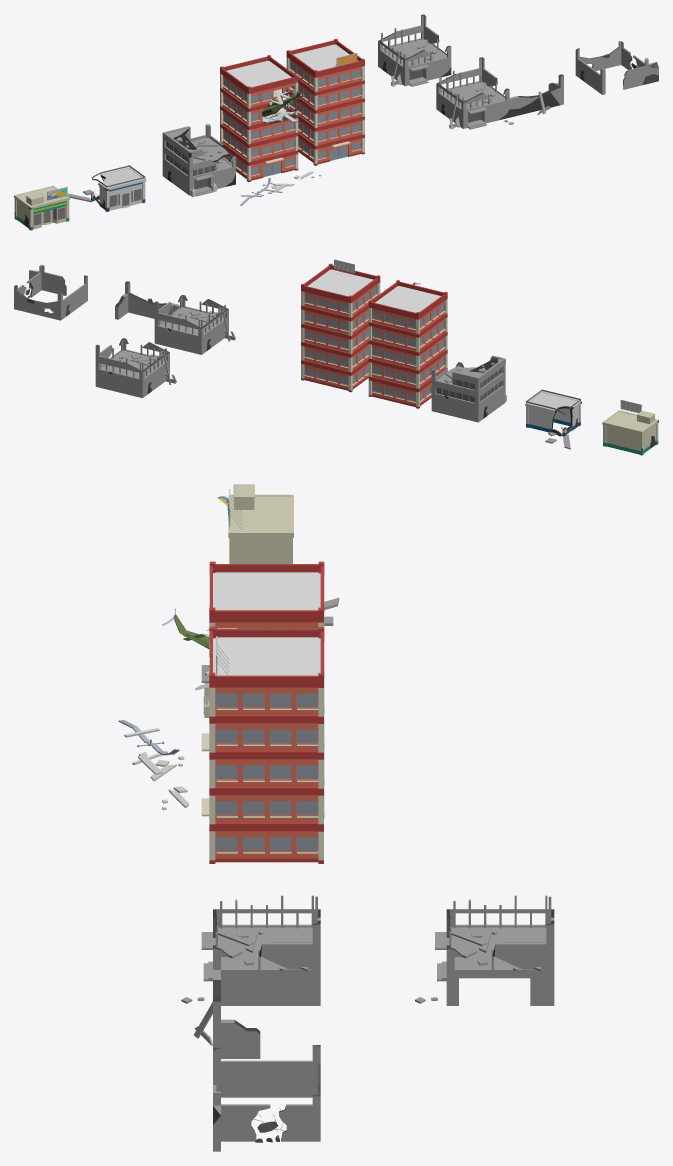
Rendered from Builings.FBX.
The picture shows the model from 3 angles, top to bottom: view 1: azimuth 30°, elevation 25°; view 2: azimuth 150°, elevation 25°; view 3: azimuth 270°, elevation 25°; orthographic projection. The views are drawn at different scales.
Parts seen in each view (by area): view 1: office_damaged_04, office_damaged_03, office_damaged_05, office_damaged_06_03, office_damaged_08, store_damaged_01, store_damaged_02, office_damaged_06_02, office_damaged_07_05, office_damaged_07_01, office_damaged_07_02; view 2: office_damaged_04, office_damaged_03, office_damaged_05, office_damaged_08, office_damaged_06_03, store_damaged_02, store_damaged_01, office_damaged_07_01, office_damaged_06_02, office_damaged_07_02, office_damaged_07_05; view 3: office_damaged_03, office_damaged_06_03, office_damaged_04, office_damaged_08, store_damaged_02, office_damaged_07_01, office_damaged_07_04, office_damaged_07_03, office_damaged_06_01, office_damaged_06_02.
Part boxes in pixels (bbox=[...]): office_damaged_04: bbox=[220, 55, 321, 205]; office_damaged_03: bbox=[286, 38, 364, 165]; office_damaged_05: bbox=[162, 124, 235, 196]; office_damaged_06_03: bbox=[436, 57, 513, 129]; office_damaged_08: bbox=[378, 14, 452, 86]; store_damaged_01: bbox=[67, 165, 146, 211]; store_damaged_02: bbox=[14, 185, 69, 230]; office_damaged_06_02: bbox=[509, 74, 563, 117]; office_damaged_07_05: bbox=[623, 58, 658, 89]; office_damaged_07_01: bbox=[575, 48, 605, 94]; office_damaged_07_02: bbox=[579, 47, 619, 70]; office_damaged_04: bbox=[368, 280, 448, 408]; office_damaged_03: bbox=[301, 259, 380, 392]; office_damaged_05: bbox=[431, 355, 506, 422]; office_damaged_08: bbox=[95, 338, 176, 397]; office_damaged_06_03: bbox=[154, 295, 235, 354]; store_damaged_02: bbox=[602, 399, 658, 455]; store_damaged_01: bbox=[525, 389, 581, 449]; office_damaged_07_01: bbox=[57, 275, 87, 320]; office_damaged_06_02: bbox=[125, 281, 180, 318]; office_damaged_07_02: bbox=[17, 291, 57, 319]; office_damaged_07_05: bbox=[29, 264, 66, 295]; office_damaged_03: bbox=[201, 626, 324, 863]; office_damaged_06_03: bbox=[181, 895, 320, 1005]; office_damaged_04: bbox=[118, 561, 324, 810]; office_damaged_08: bbox=[415, 895, 554, 1005]; store_damaged_02: bbox=[217, 484, 293, 563]; office_damaged_07_01: bbox=[213, 1045, 320, 1097]; office_damaged_07_04: bbox=[221, 1104, 277, 1142]; office_damaged_07_03: bbox=[274, 1091, 320, 1141]; office_damaged_06_01: bbox=[221, 1019, 260, 1058]; office_damaged_06_02: bbox=[194, 970, 220, 1047].
Size of what is drawn, in the model's own units: 13773 by 2191 by 4157.
